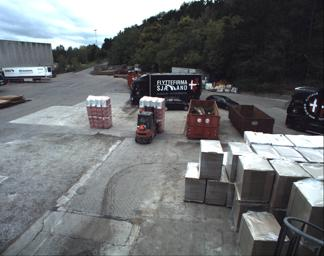rockwool_batts: (137, 94, 165, 130), (86, 94, 112, 126)
